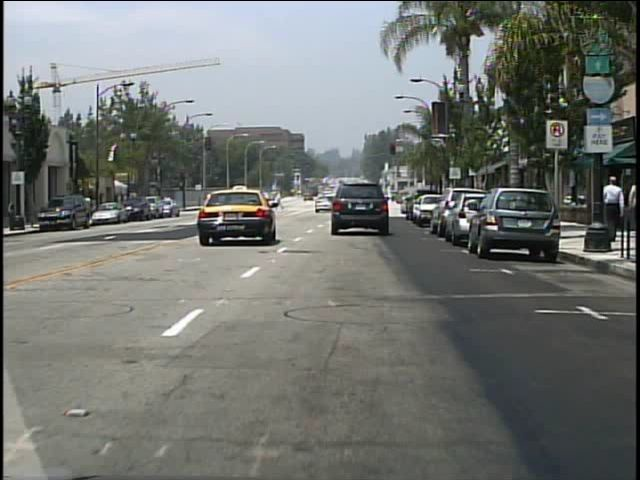person: (603, 173, 625, 245), (625, 176, 639, 216), (276, 191, 288, 212)
